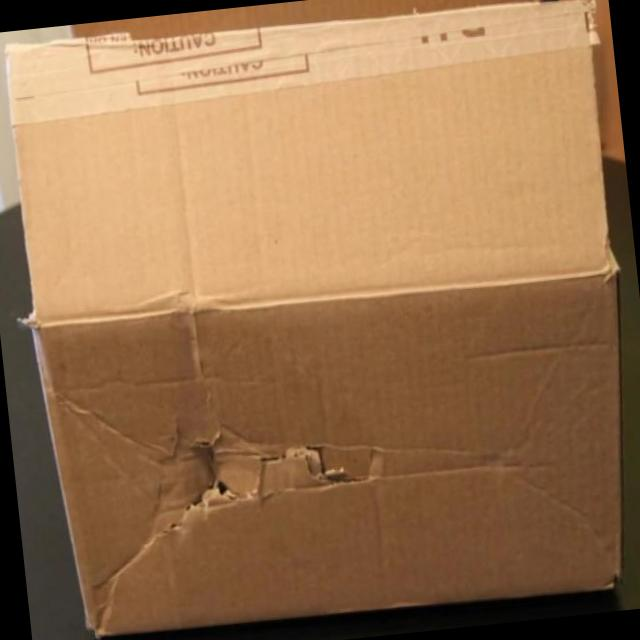box: (6, 0, 619, 640)
crushed: (101, 396, 344, 595)
opened: (8, 2, 640, 326)
